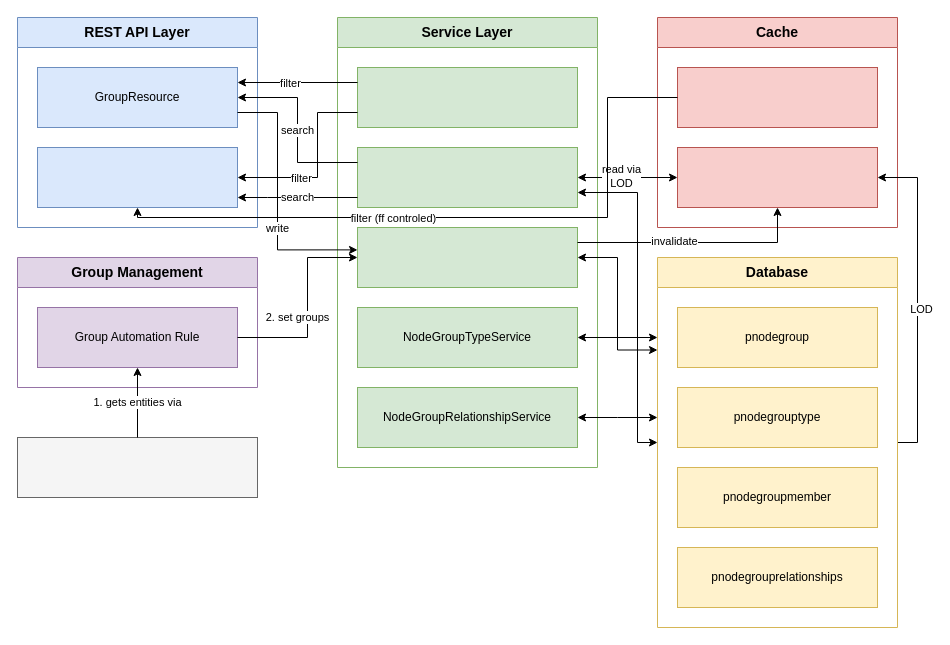
The diagram is 950 pixels wide and 645 high, and some of its shapes have lost their labels. The centre of each missing label's shape, as x and y in pixels:
"ContactPermissionsService" goes at [467,97].
"Group Member Cache (local + memcached)" goes at [777,177].
"NodeGroupReaderService" goes at [467,177].
"NodeGroupWriterService" goes at [467,257].
"PortfolioDataJob (PDJ)" goes at [137,467].
"SearchResource" goes at [137,177].
"User Permission Cache (Redis)" goes at [777,97].
